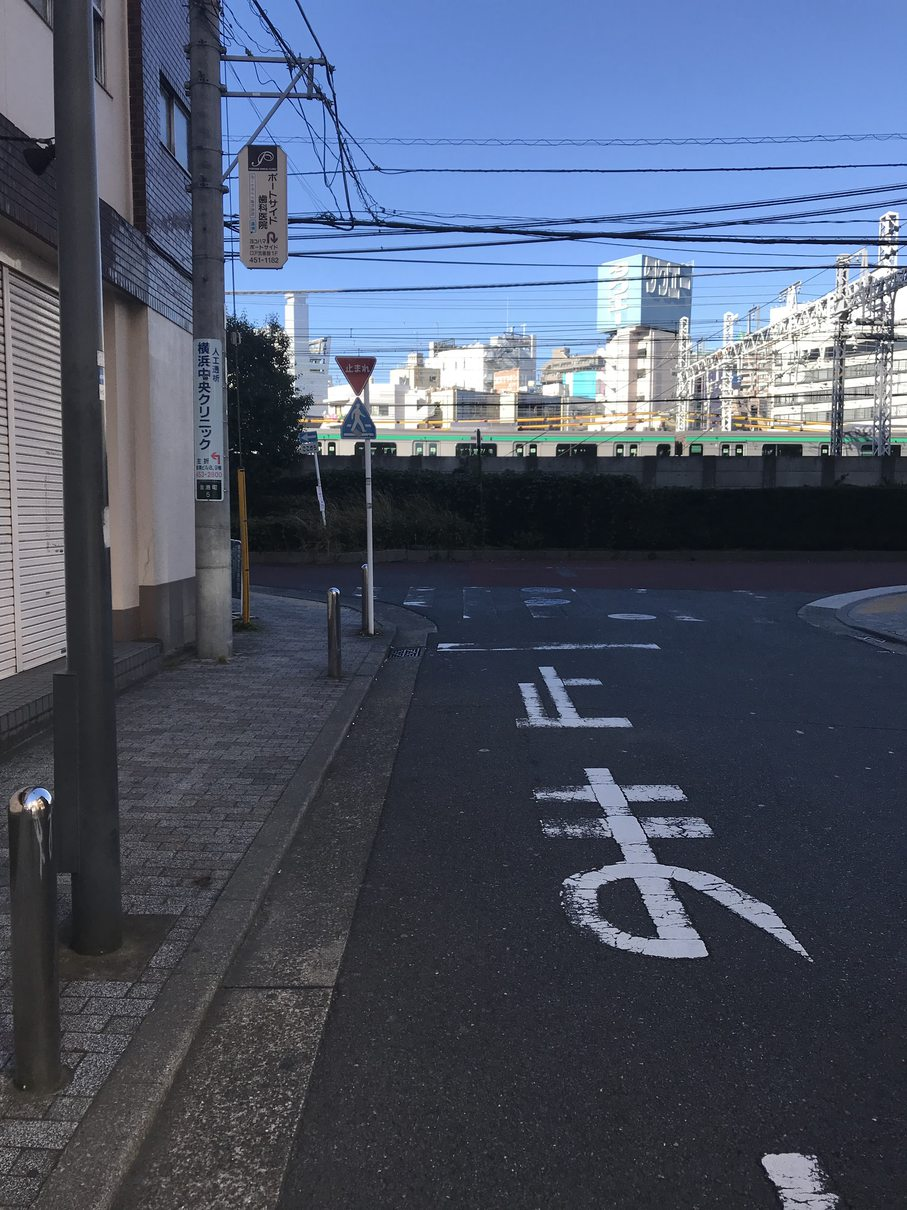stop_sign: (333, 353, 377, 396)
